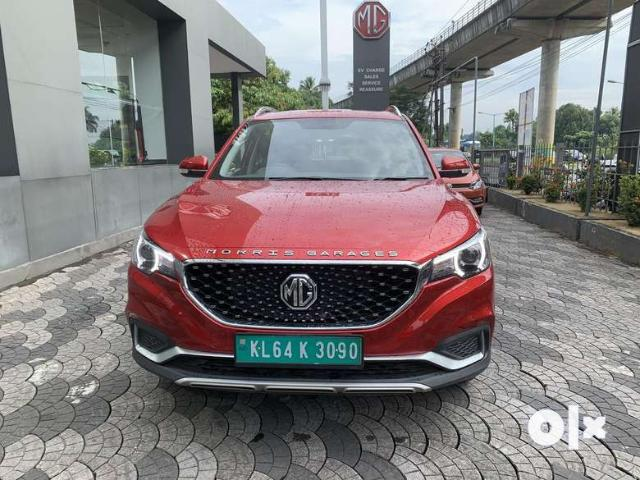Indian_Number_Plate: (234, 332, 364, 368)
